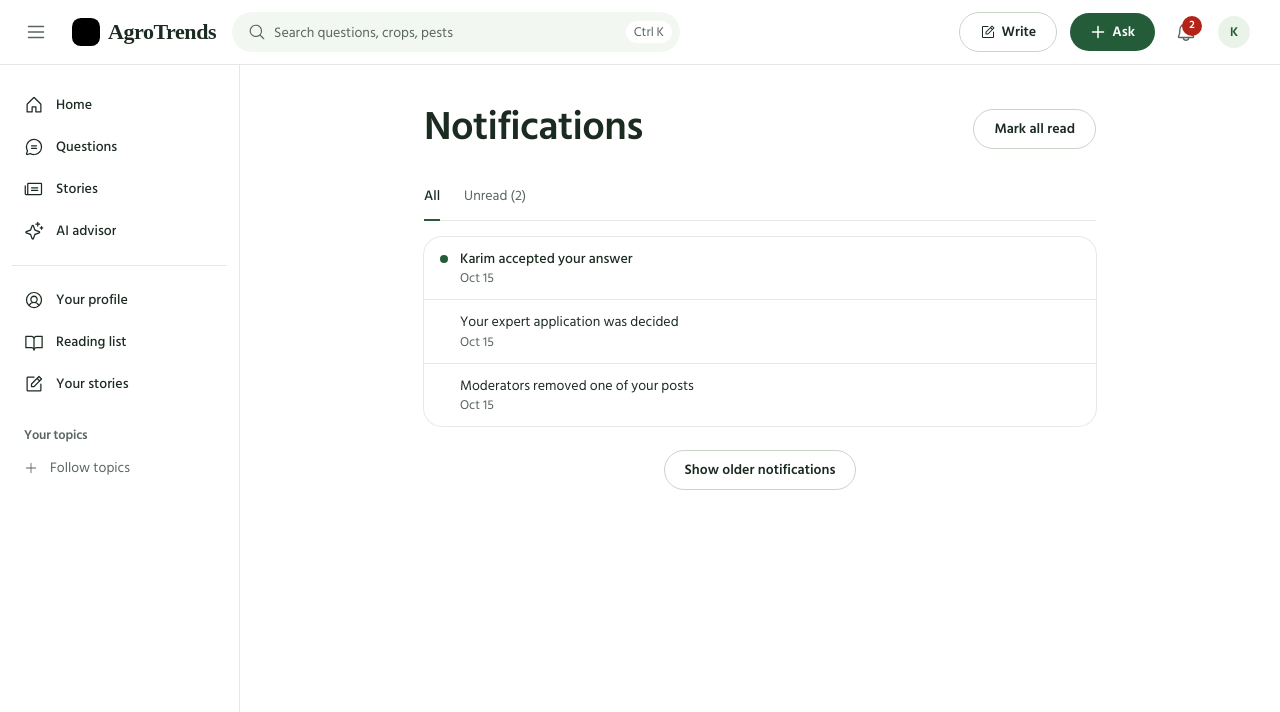
Test: the page lists every type in words, page by page
expect the text "Karim accepted your answer" is shown: met, box [460,249,632,269]
expect the text "Your expert application was decided" is shown: met, box [460,312,679,333]
Click the button "Show older notifications". click: {"x": 760, "y": 470}
box: [664,450,856,490]
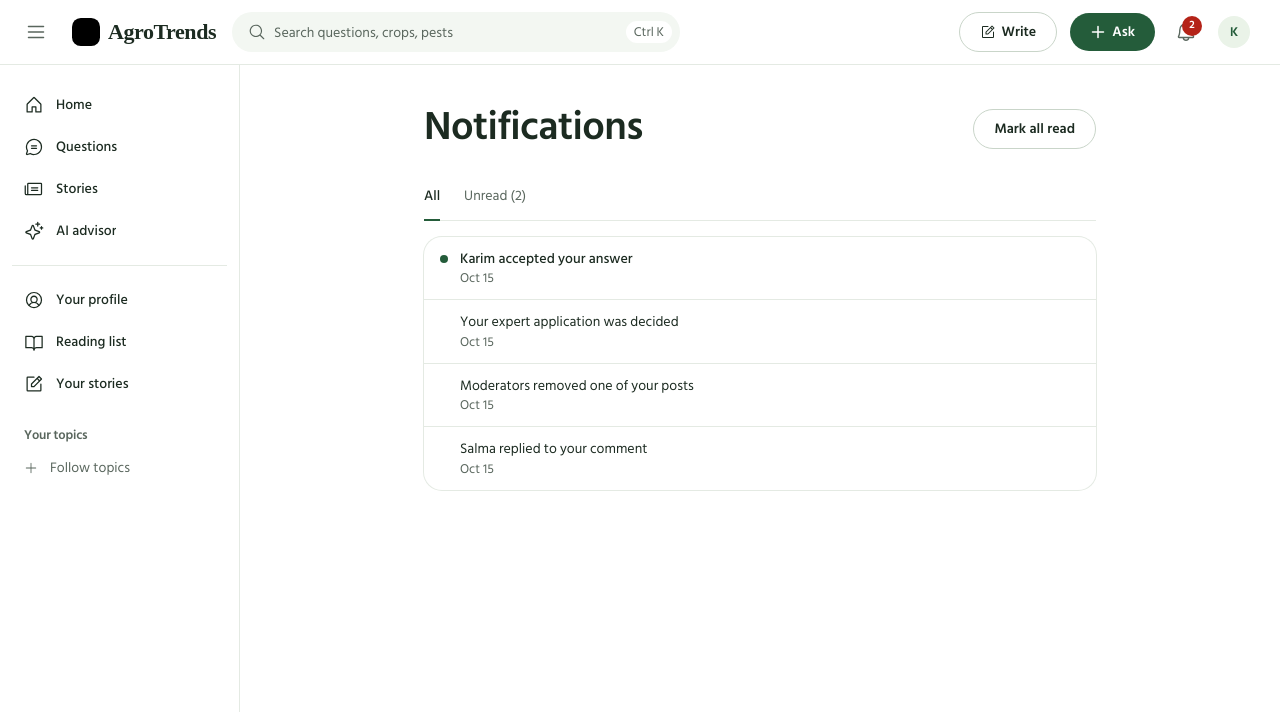
expect the text "Salma replied to your comment" is shown: met, box [460,440,647,460]
